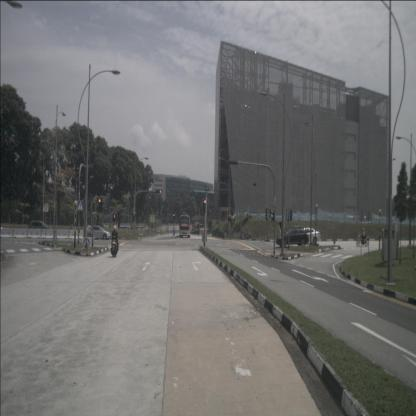movable_object-trafficcone: (85, 238, 90, 253)
vehicle-car: (276, 228, 309, 248), (83, 225, 111, 241), (296, 228, 320, 244), (29, 220, 49, 233)
vehicle-motorcycle: (110, 226, 120, 257), (356, 228, 369, 247)
vehicle-truck: (179, 211, 190, 238), (194, 222, 199, 235), (189, 224, 195, 234)
